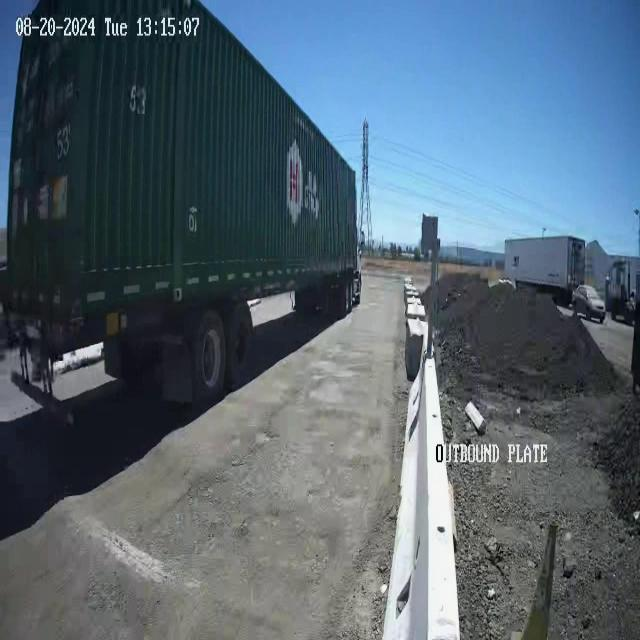TRUCK_CONTAINER: (4, 1, 362, 411)
